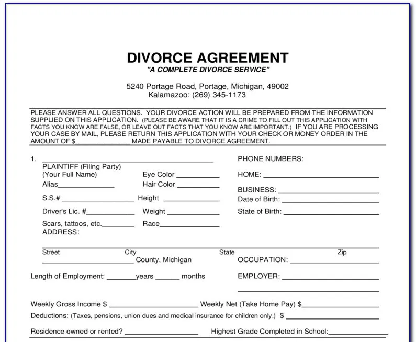textline: (41, 240, 379, 251), (40, 154, 215, 164), (236, 284, 380, 295), (262, 168, 380, 179), (276, 185, 380, 196), (280, 271, 380, 282), (284, 310, 381, 321), (282, 207, 383, 217), (40, 255, 135, 265), (287, 255, 382, 265), (123, 326, 199, 338), (281, 195, 381, 204), (301, 298, 380, 309), (107, 300, 199, 309), (60, 193, 136, 203), (158, 218, 221, 229), (327, 326, 389, 336), (165, 207, 220, 217), (162, 195, 221, 204), (74, 138, 131, 147), (85, 208, 134, 217), (58, 182, 115, 189), (100, 219, 135, 230), (105, 271, 138, 281), (175, 172, 221, 179), (175, 182, 221, 189), (154, 271, 181, 282)
